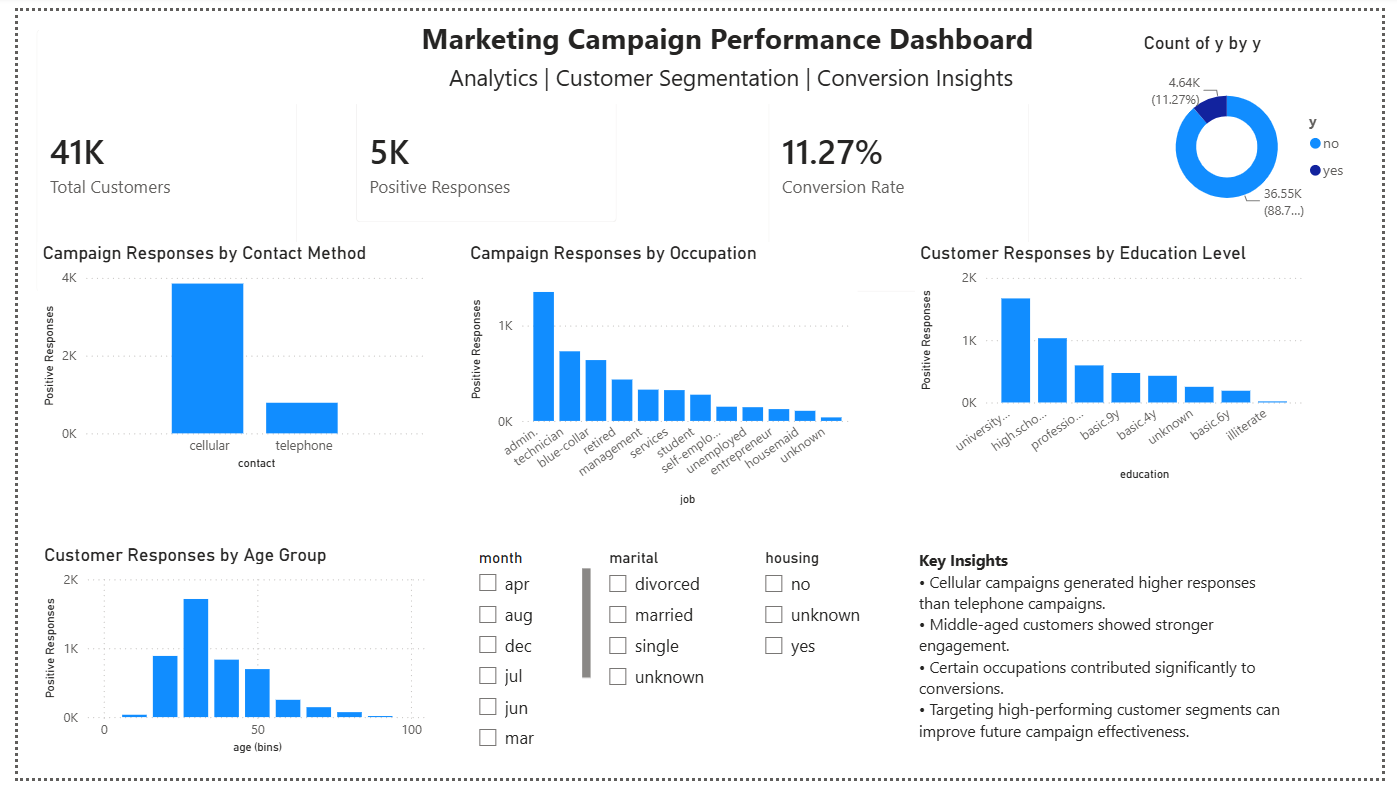

The page's visual inventory and layout, read from the dashboard file:
{"tool":"powerbi","page":{"name":"Page 1","canvas":[1280,720],"ordinal":0},"visuals":[{"type":"cardVisual","fields":{"Data":["bank-additional-full.Total Customers"]},"box":[0,0,279.7,281.6],"z":1},{"type":"cardVisual","fields":{"Data":["bank-additional-full.Positive Responses"]},"box":[300.5,66.1,279.7,149.3],"z":2},{"type":"cardVisual","fields":{"Data":["bank-additional-full.Conversion Rate"]},"box":[687.9,1.9,279.7,279.7],"z":3},{"type":"clusteredColumnChart","title":"Campaign Responses by Contact Method","fields":{"Category":["bank-additional-full.contact"],"Y":["bank-additional-full.Positive Responses"]},"box":[18.3,216.7,370,218.3],"z":4},{"type":"clusteredColumnChart","title":"Campaign Responses by Occupation","fields":{"Category":["bank-additional-full.job"],"Y":["bank-additional-full.Positive Responses"]},"box":[420,216.7,368.3,251.7],"z":5},{"type":"columnChart","title":"Customer Responses by Education Level","fields":{"Category":["bank-additional-full.education"],"Y":["bank-additional-full.Positive Responses"]},"box":[841.7,216.7,368.3,228.3],"z":6},{"type":"columnChart","title":"Customer Responses by Age Group","fields":{"Category":["bank-additional-full.age (bins)"],"Y":["bank-additional-full.Positive Responses"]},"box":[20,500,368.3,201.7],"z":7},{"type":"slicer","fields":{"Values":["bank-additional-full.month"]},"box":[420,500,122.9,201.4],"z":8},{"type":"textbox","box":[841.4,500,358.6,220],"z":9},{"type":"textbox","box":[20,1.4,1190,85.7],"z":10},{"type":"slicer","fields":{"Values":["bank-additional-full.marital"]},"box":[542.9,500,122.9,201.4],"z":11},{"type":"slicer","fields":{"Values":["bank-additional-full.housing"]},"box":[688.6,500,138.6,201.4],"z":12},{"type":"donutChart","fields":{"Category":["bank-additional-full.y"],"Y":["CountNonNull(bank-additional-full.y)"]},"box":[1051.4,20,207.1,195.7],"z":13}]}

Visuals, with their boxes in screenshot pixels (x1, y1, x2, y2), scaled from the page's 1280x720 canvas onto the 1397x793 screenshot:
cardVisual - bank-additional-full.Total Customers: Rect(0, 0, 305, 310)
cardVisual - bank-additional-full.Positive Responses: Rect(328, 73, 633, 237)
cardVisual - bank-additional-full.Conversion Rate: Rect(751, 2, 1056, 310)
"Campaign Responses by Contact Method" clusteredColumnChart: Rect(20, 239, 424, 479)
"Campaign Responses by Occupation" clusteredColumnChart: Rect(458, 239, 860, 516)
"Customer Responses by Education Level" columnChart: Rect(919, 239, 1321, 490)
"Customer Responses by Age Group" columnChart: Rect(22, 551, 424, 773)
slicer - bank-additional-full.month: Rect(458, 551, 593, 773)
textbox: Rect(918, 551, 1310, 792)
textbox: Rect(22, 2, 1321, 96)
slicer - bank-additional-full.marital: Rect(593, 551, 727, 773)
slicer - bank-additional-full.housing: Rect(752, 551, 903, 773)
donutChart - bank-additional-full.y x CountNonNull(bank-additional-full.y): Rect(1148, 22, 1374, 238)
